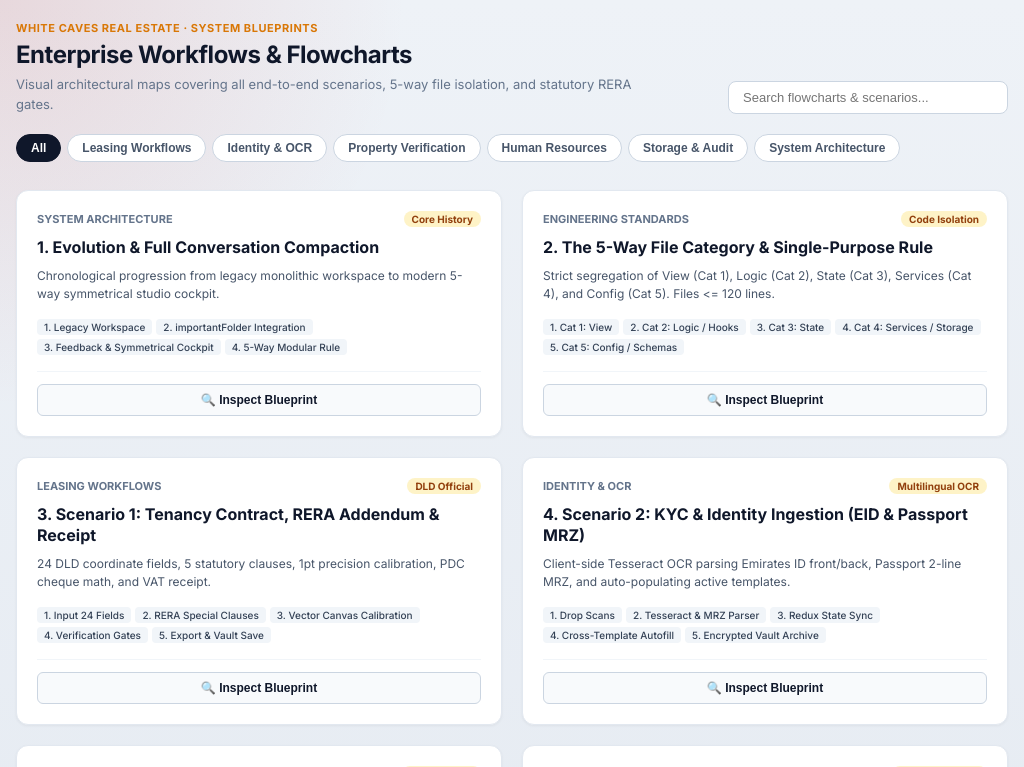
Test: WorkflowBlueprintsPage › opens and closes modal on inspect click
The image size is (1024, 767).
Click the button "🔍 Inspect Blueprint" below "Feedback & Symmetrical Cockpit".
click(259, 400)  # box [37, 384, 481, 416]
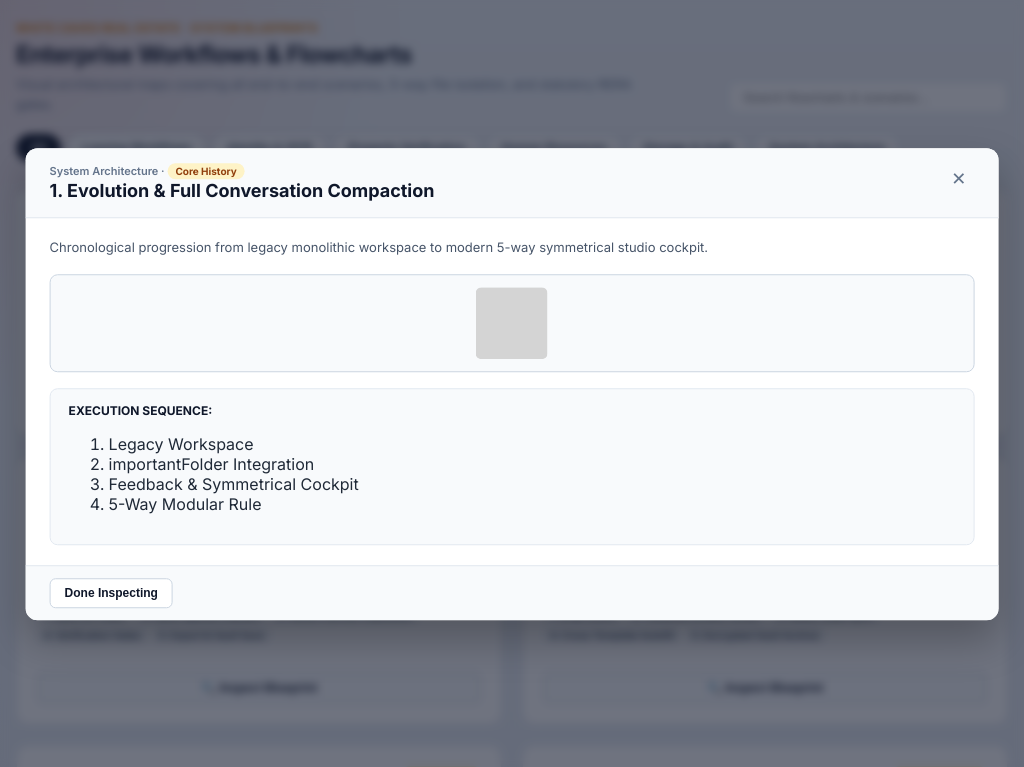
expect the dialog is shown: met, box [26, 148, 998, 620]
Click the button named "Close dialog".
click(959, 179)  # box [943, 164, 974, 194]
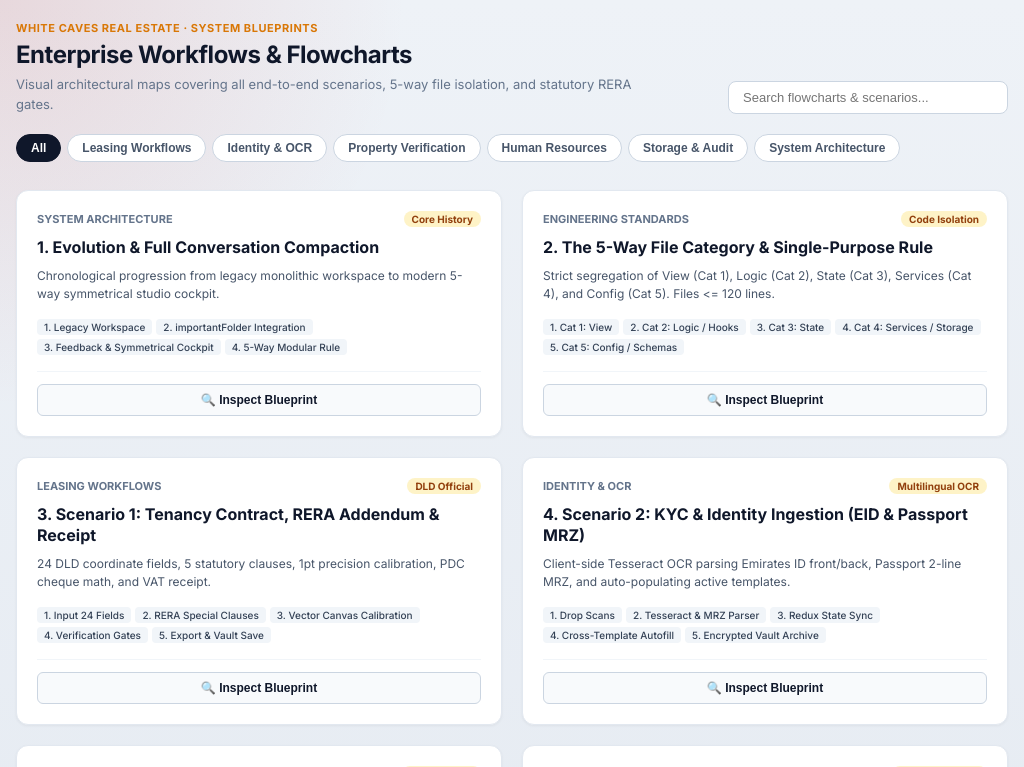
expect the dialog is gone: met
